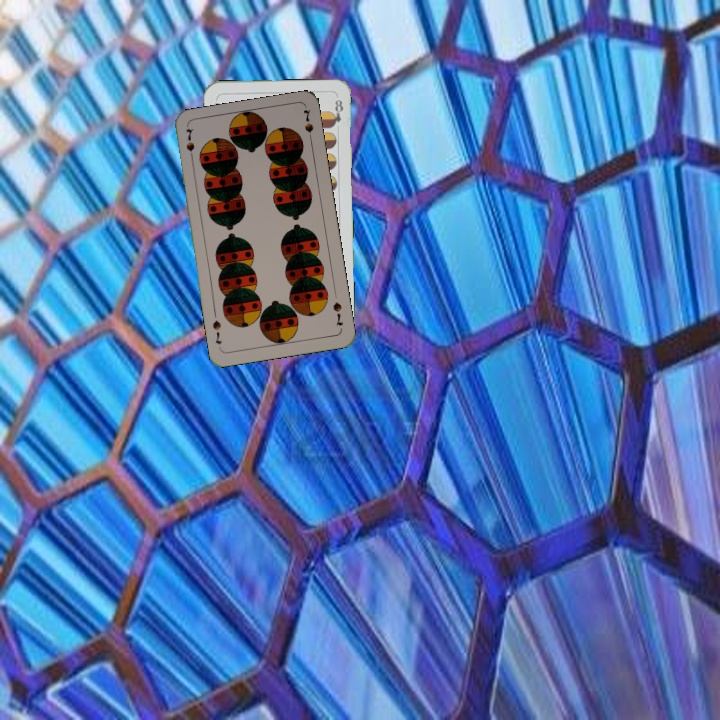S7: (182, 125, 197, 165), (329, 298, 346, 329)
